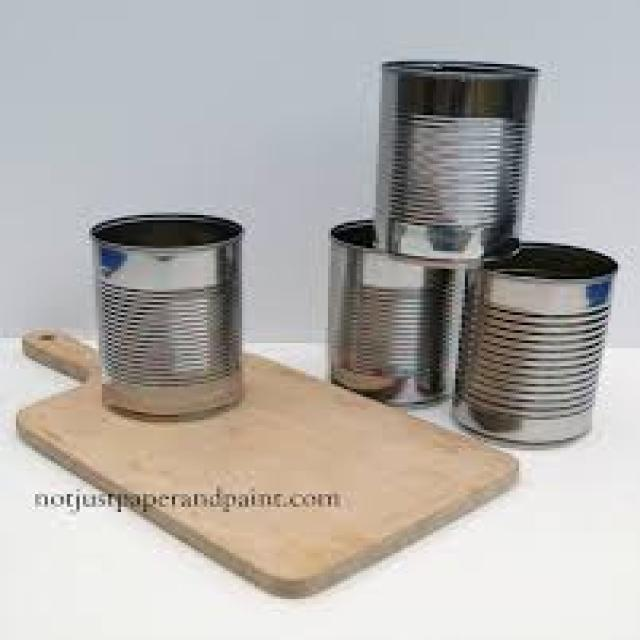Dry: (449, 241, 614, 443), (86, 212, 242, 420), (369, 59, 528, 261), (328, 218, 452, 407)
